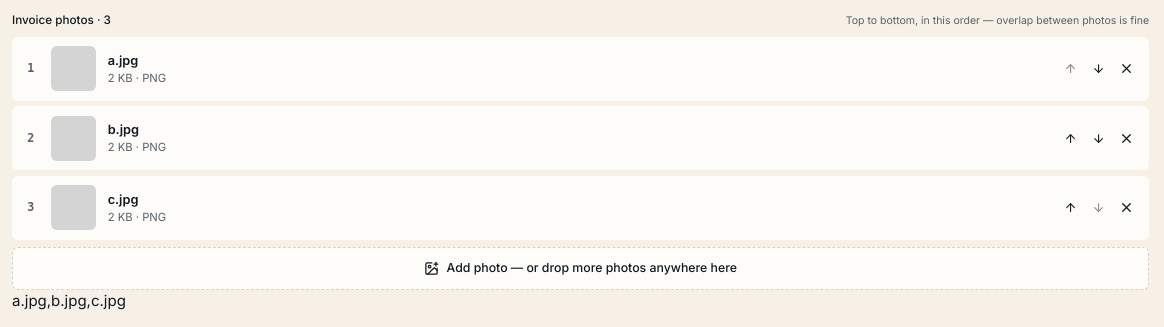
Test case: multi-photo intake › removes a photo before processing
Step 1. Click the button named "Remove b.jpg" → x=1127, y=138, box [1113,125,1140,152]
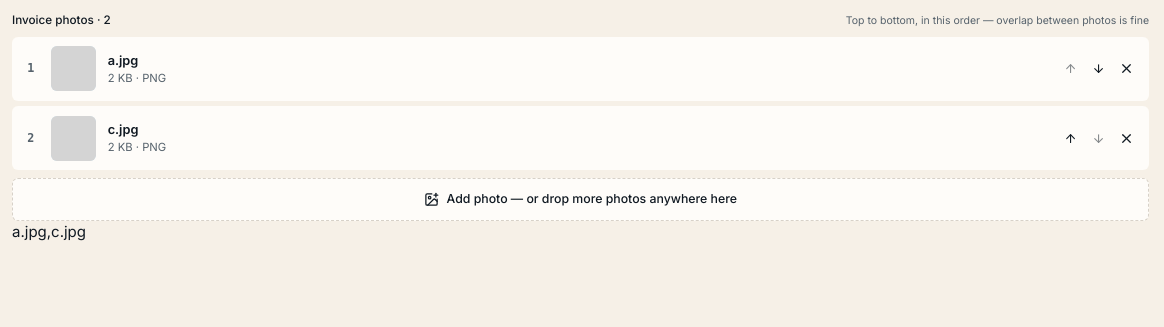
Check: the list item with test id "photo-row" shows "2", box [27,130,34,144]
Check: the text with test id "order" reads "a.jpg,c.jpg", box [12,222,86,241]
